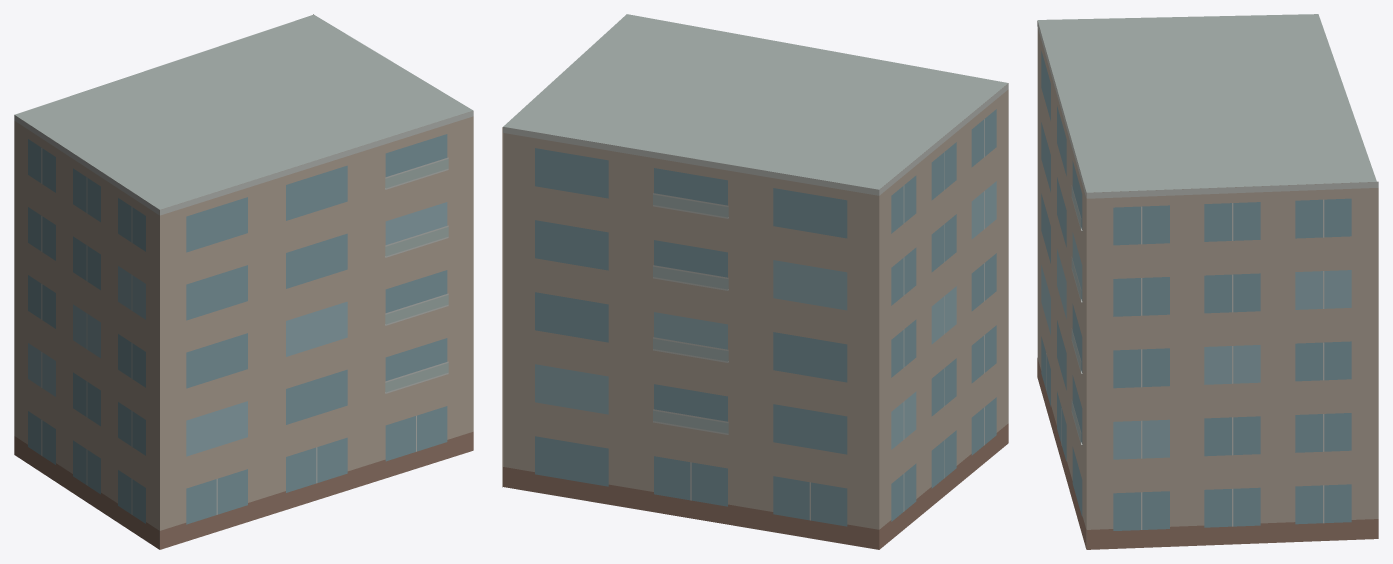
The model's file is survey-upis-32767320.glb.
3 renders of one model, left to right at view 1: azimuth 30°, elevation 25°; view 2: azimuth 150°, elevation 25°; view 3: azimuth 270°, elevation 25°, orthographic. The views are drawn at different scales.
Parts seen in each view (by area): view 1: survey-upis-32767320.tmp; view 2: survey-upis-32767320.tmp; view 3: survey-upis-32767320.tmp.
Part boxes in pixels (bbox=[...]): survey-upis-32767320.tmp: bbox=[14, 14, 473, 549]; survey-upis-32767320.tmp: bbox=[502, 14, 1008, 549]; survey-upis-32767320.tmp: bbox=[1037, 14, 1378, 549].
Size of the model in its own units: 15.35 by 14.3 by 12.38.
